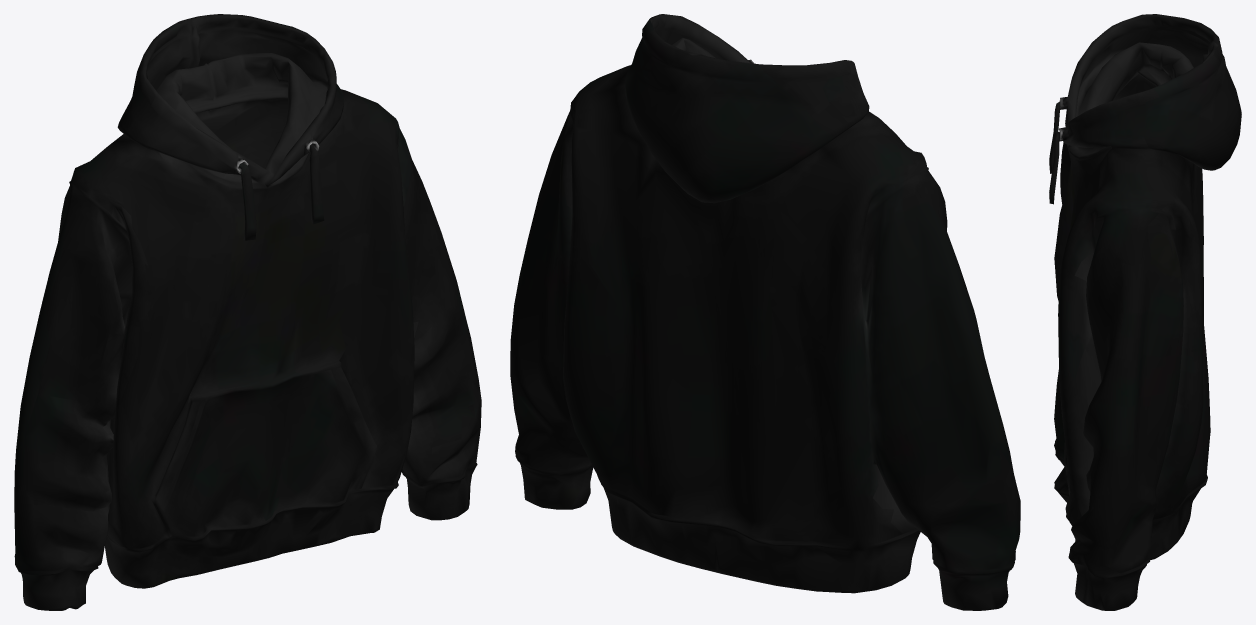
The model's file is card.glb.
3 renders of one model, left to right at view 1: azimuth 30°, elevation 25°; view 2: azimuth 150°, elevation 25°; view 3: azimuth 270°, elevation 25°, orthographic. The views are drawn at different scales.
Visible parts, largest first — view 1: model; view 2: model; view 3: model.
Boxes of the visible parts, x1,y1,x2,y2 form: model: [14, 14, 481, 610]; model: [510, 14, 1020, 610]; model: [1049, 14, 1241, 610].
Size of the model in its own units: 1.94 by 2 by 0.7388.
1 material, 1 textured.
